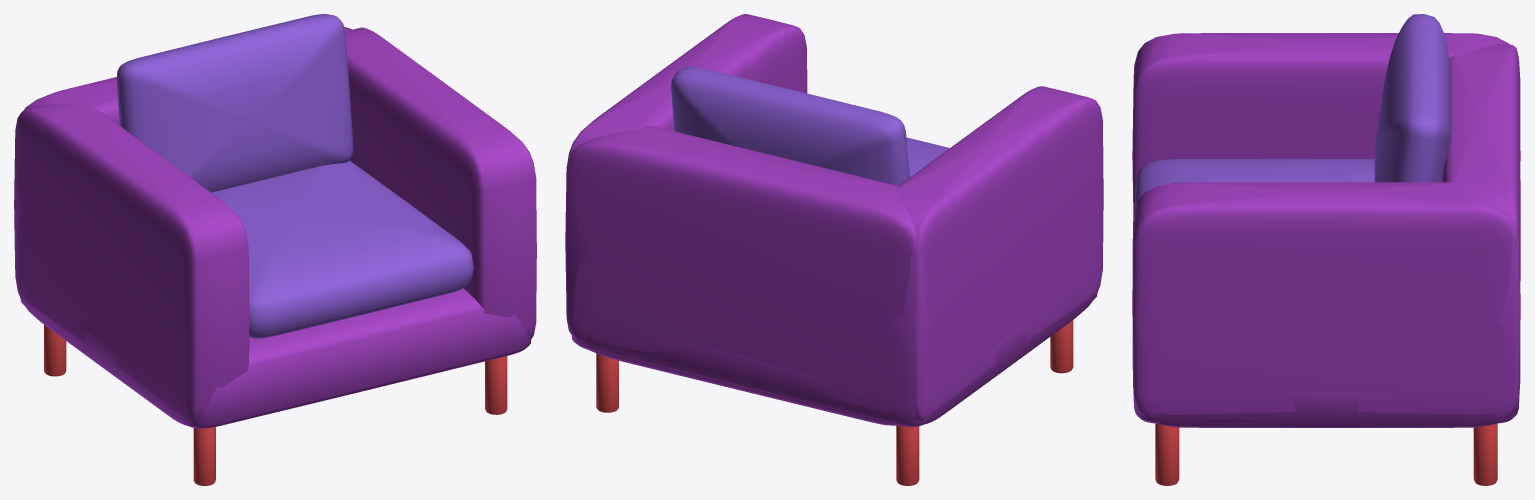
File: poltrona_caixa_violeta.glb
3 renders of one model, left to right at view 1: azimuth 30°, elevation 25°; view 2: azimuth 150°, elevation 25°; view 3: azimuth 270°, elevation 25°, orthographic. The views are drawn at different scales.
Visible parts, largest first — view 1: poltrona_caixa_violeta; view 2: poltrona_caixa_violeta; view 3: poltrona_caixa_violeta.
Part boxes in pixels (left/top/right/bottom): poltrona_caixa_violeta: left=14, top=14, right=536, bottom=485; poltrona_caixa_violeta: left=565, top=14, right=1103, bottom=485; poltrona_caixa_violeta: left=1132, top=14, right=1520, bottom=485.
Bounding box in the file's own units: 0.86 × 0.7572 × 0.78.
Materials: 1 (1 with a texture image).
